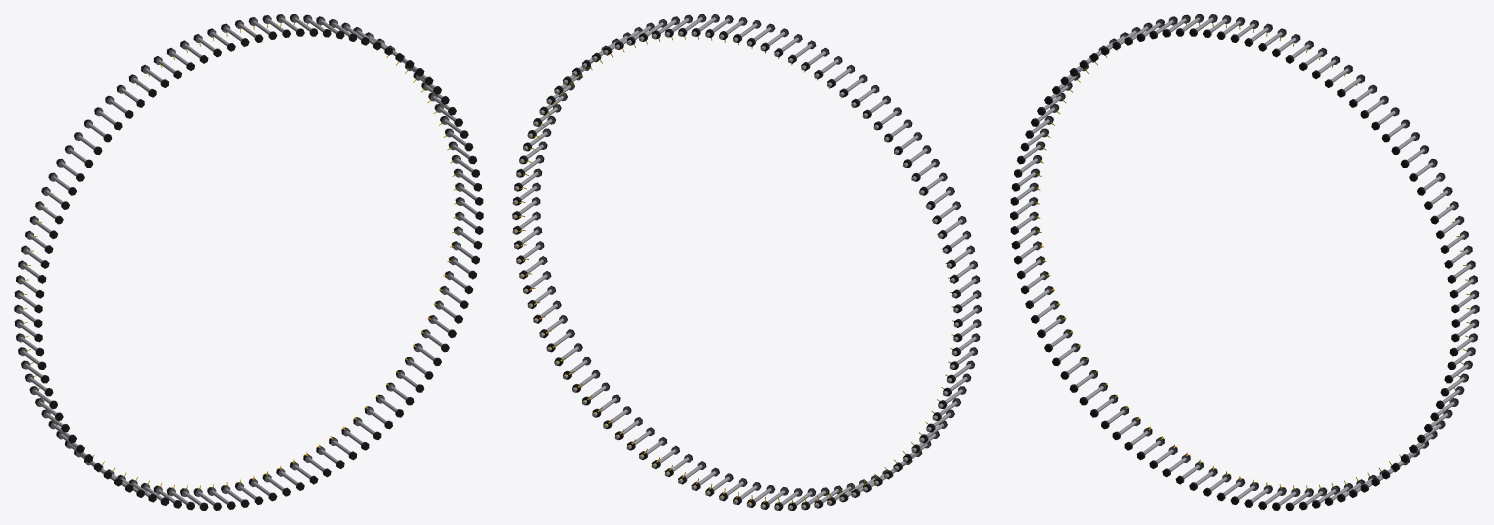
Rendered from flange_3_bolts_ok.glb.
3 views of the same model, side by side, from view 1: azimuth 30°, elevation 25°; view 2: azimuth 150°, elevation 25°; view 3: azimuth 330°, elevation 25° (orthographic).
Visible parts, largest first — view 1: flange_3_bolts_ok; view 2: flange_3_bolts_ok; view 3: flange_3_bolts_ok.
Boxes of the visible parts, x1,y1,x2,y2 form: flange_3_bolts_ok: (14, 14, 483, 510); flange_3_bolts_ok: (512, 14, 981, 510); flange_3_bolts_ok: (1010, 14, 1479, 510).
Bounding box in the file's own units: 4.16 × 4.16 × 0.3733.
4 materials, 3 textured.
